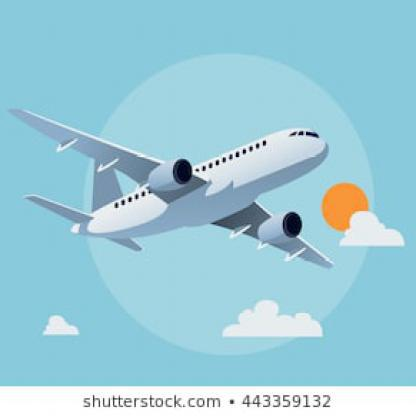CIV_Plane: (2, 102, 341, 292)
